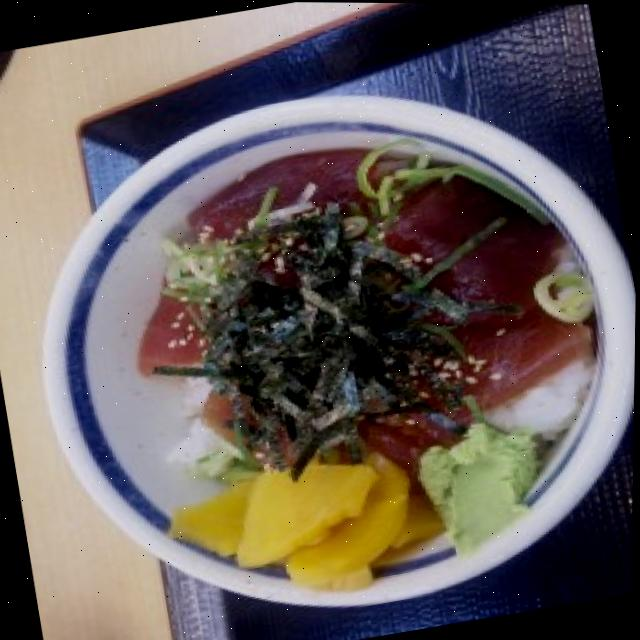刺身生食: (6, 39, 640, 640)
